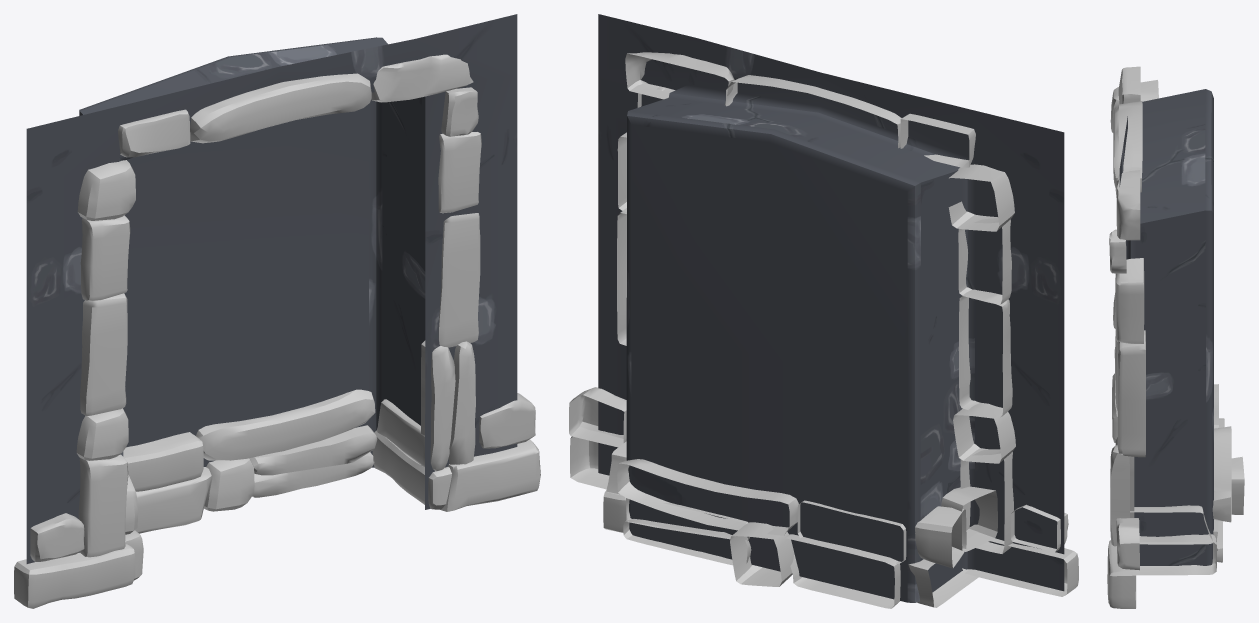
File: Wall with a hole.fbx
3 views of the same model, side by side, from view 1: azimuth 30°, elevation 25°; view 2: azimuth 150°, elevation 25°; view 3: azimuth 270°, elevation 25° (orthographic). The views are drawn at different scales.
Visible parts, largest first — view 1: Wall_with_a_hole; view 2: Wall_with_a_hole; view 3: Wall_with_a_hole.
Boxes of the visible parts, x1,y1,x2,y2 form: Wall_with_a_hole: (14, 14, 540, 608); Wall_with_a_hole: (569, 14, 1078, 608); Wall_with_a_hole: (1107, 66, 1244, 608).
Size of the model in its own units: 14.26 by 12.74 by 4.01.
